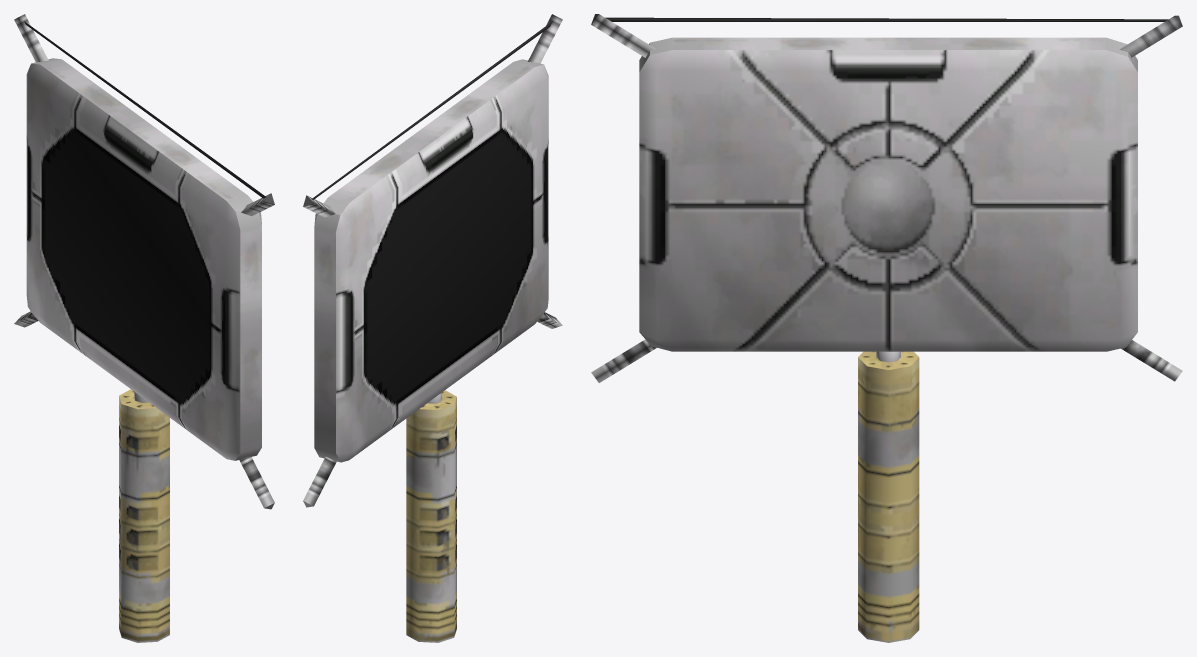
File: eqp_jedi_testing_screen_l0.fbx
3 renders of one model, left to right at view 1: azimuth 30°, elevation 25°; view 2: azimuth 150°, elevation 25°; view 3: azimuth 270°, elevation 25°, orthographic. The views are drawn at different scales.
Visible parts, largest first — view 1: mesh_node; view 2: mesh_node; view 3: mesh_node.
Boxes of the visible parts, x1,y1,x2,y2 form: mesh_node: (14,14,274,642); mesh_node: (303,14,562,642); mesh_node: (591,14,1182,642).
Bounding box in the file's own units: 0.0299 × 0.3356 × 0.2885.
1 material, 1 textured.
